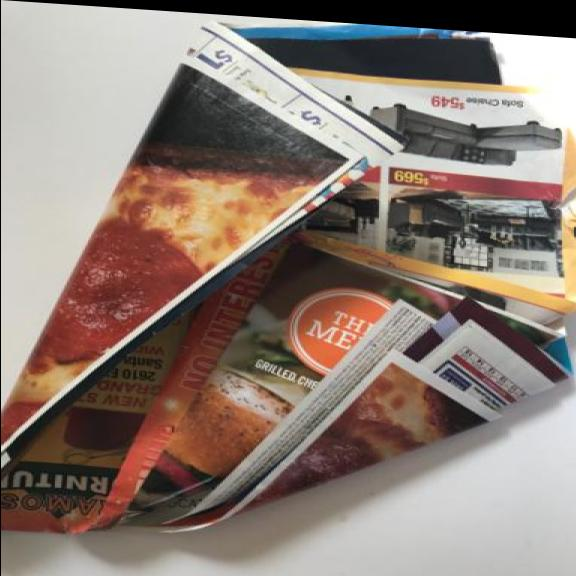Kertas: (0, 0, 575, 572)
